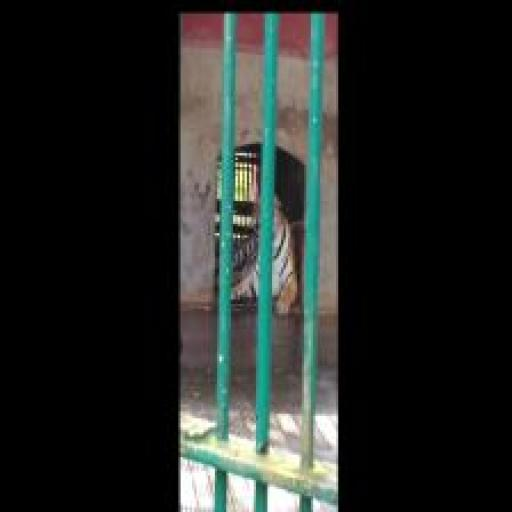Tiger: (220, 160, 305, 320)
